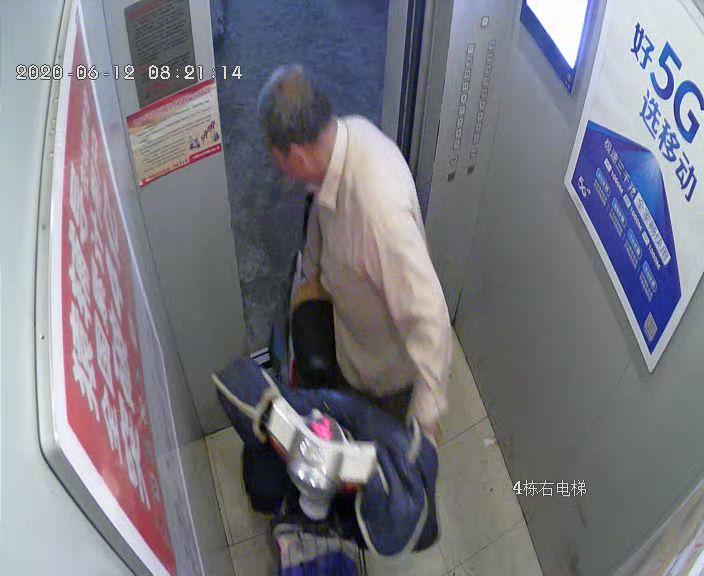Electric-bicycle: (215, 188, 441, 569)
